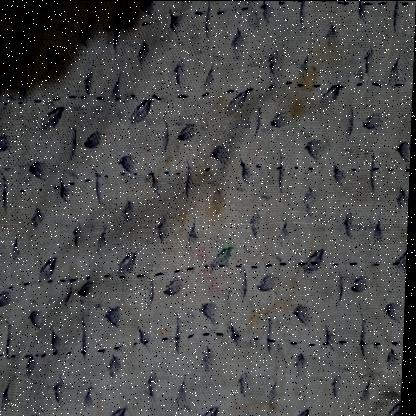spot: (292, 34, 341, 96), (250, 278, 299, 334), (286, 45, 322, 121), (210, 80, 254, 132), (144, 149, 181, 206), (197, 235, 234, 286), (230, 389, 285, 412), (0, 168, 14, 244), (206, 181, 230, 225), (191, 146, 216, 188), (348, 169, 375, 207), (368, 378, 400, 406), (170, 210, 194, 236), (162, 312, 177, 348), (97, 386, 109, 412)
